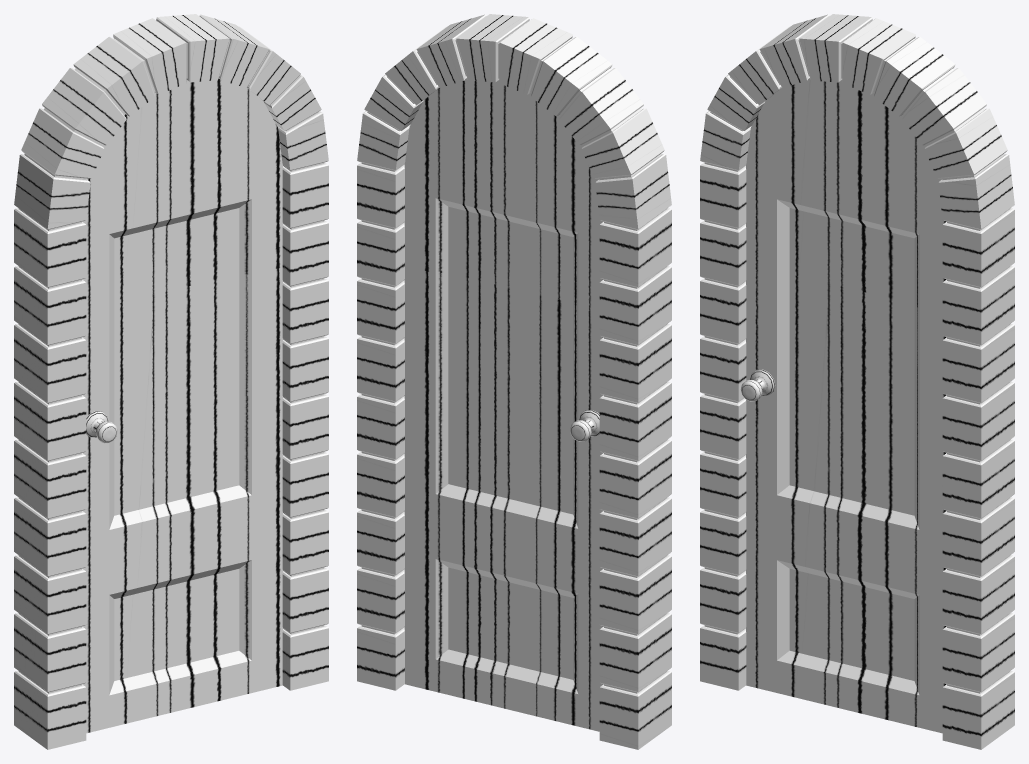
The model's file is Door.fbx.
The picture shows the model from 3 angles, left to right: view 1: azimuth 30°, elevation 25°; view 2: azimuth 150°, elevation 25°; view 3: azimuth 330°, elevation 25°; orthographic projection.
Visible parts, largest first — view 1: Deur; view 2: Deur; view 3: Deur.
Part boxes in pixels (x1,y1,x2,y2): Deur: [14, 14, 328, 749]; Deur: [357, 14, 671, 749]; Deur: [700, 14, 1014, 749].
Bounding box in the file's own units: 95.83 × 219 × 26.66.
1 material, 1 textured.
